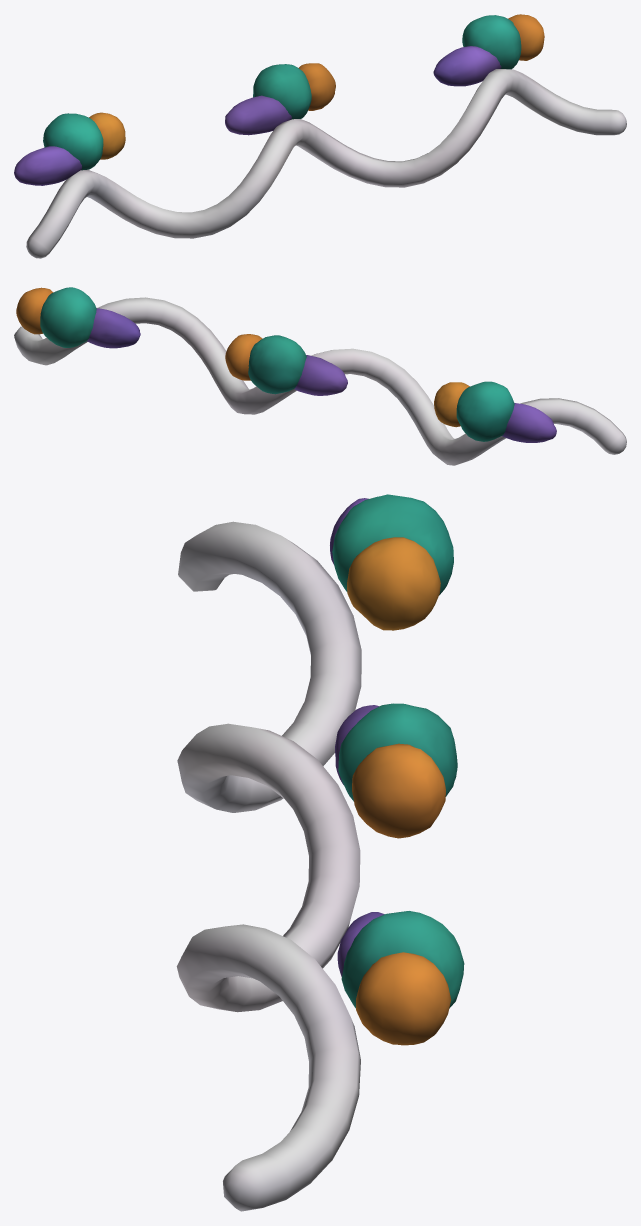
The model's file is troponin-tropomyosin.glb.
The picture shows the model from 3 angles, top to bottom: view 1: azimuth 30°, elevation 25°; view 2: azimuth 150°, elevation 25°; view 3: azimuth 270°, elevation 25°; orthographic projection. The views are drawn at different scales.
Visible parts, largest first — view 1: troponin-tropomyosin-tropomyosin, troponin-tropomyosin-troponin; view 2: troponin-tropomyosin-troponin, troponin-tropomyosin-tropomyosin; view 3: troponin-tropomyosin-tropomyosin, troponin-tropomyosin-troponin.
Part boxes in pixels (x1=…): troponin-tropomyosin-tropomyosin: x1=26, y1=69, x2=626, y2=258; troponin-tropomyosin-troponin: x1=14, y1=14, x2=544, y2=185; troponin-tropomyosin-troponin: x1=16, y1=287, x2=556, y2=442; troponin-tropomyosin-tropomyosin: x1=14, y1=297, x2=626, y2=465; troponin-tropomyosin-tropomyosin: x1=176, y1=521, x2=361, y2=1211; troponin-tropomyosin-troponin: x1=330, y1=494, x2=464, y2=1045.
Size of what is drawn, in the model's own units: 1.04 by 0.1897 by 0.2163.
